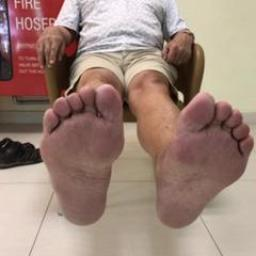Plantar View -Both Feet-: (21, 65, 255, 248)
